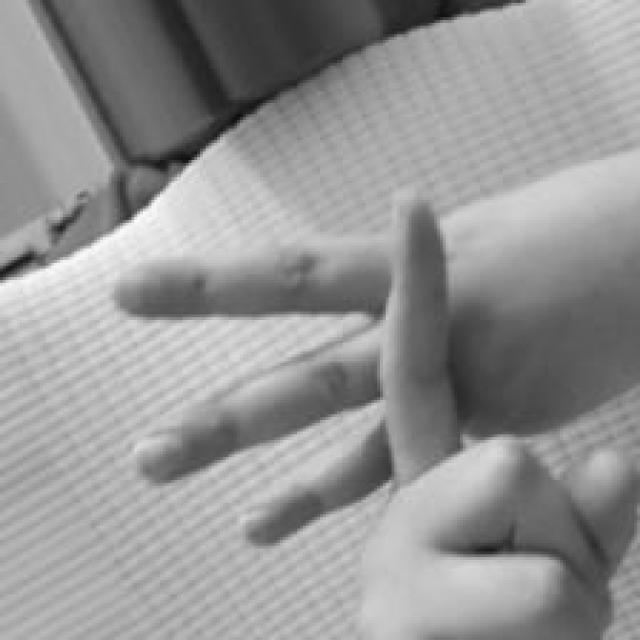E: (112, 183, 637, 640)
